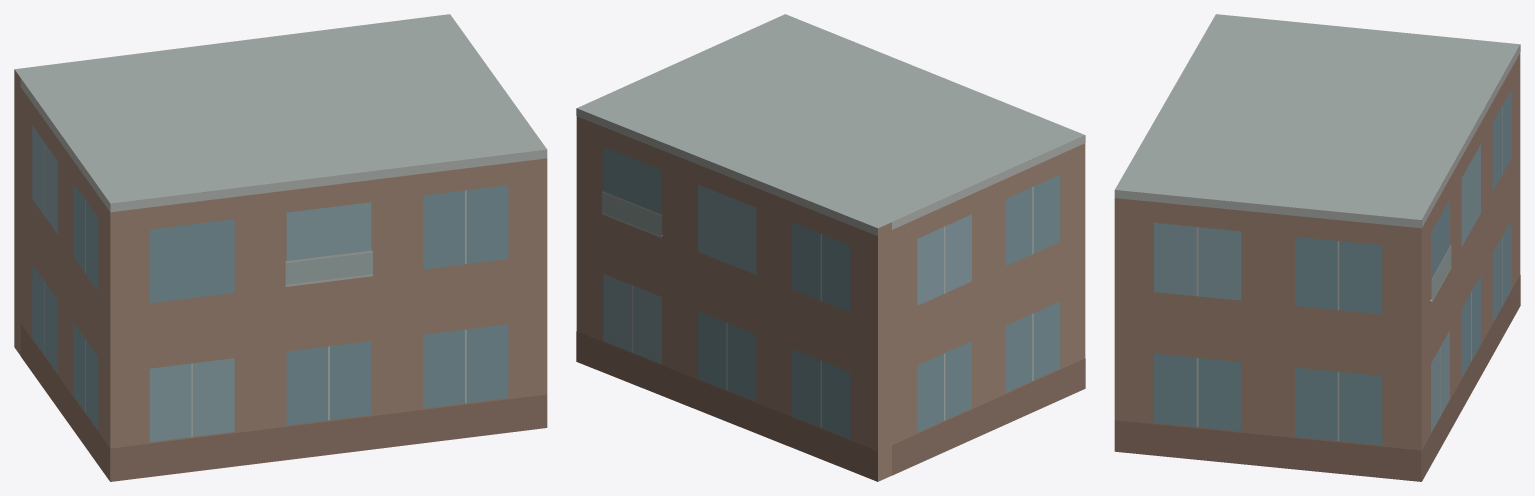
File: survey-upis-32538070.glb
The picture shows the model from 3 angles, left to right: view 1: azimuth 30°, elevation 25°; view 2: azimuth 150°, elevation 25°; view 3: azimuth 270°, elevation 25°; orthographic projection. The views are drawn at different scales.
Visible parts, largest first — view 1: survey-upis-32538070.tmp; view 2: survey-upis-32538070.tmp; view 3: survey-upis-32538070.tmp.
Part boxes in pixels (x1,y1,x2,y2): survey-upis-32538070.tmp: [14, 14, 547, 481]; survey-upis-32538070.tmp: [576, 14, 1085, 481]; survey-upis-32538070.tmp: [1114, 14, 1520, 481].
Bounding box in the file's own units: 13.19 × 7.8 × 10.97.
